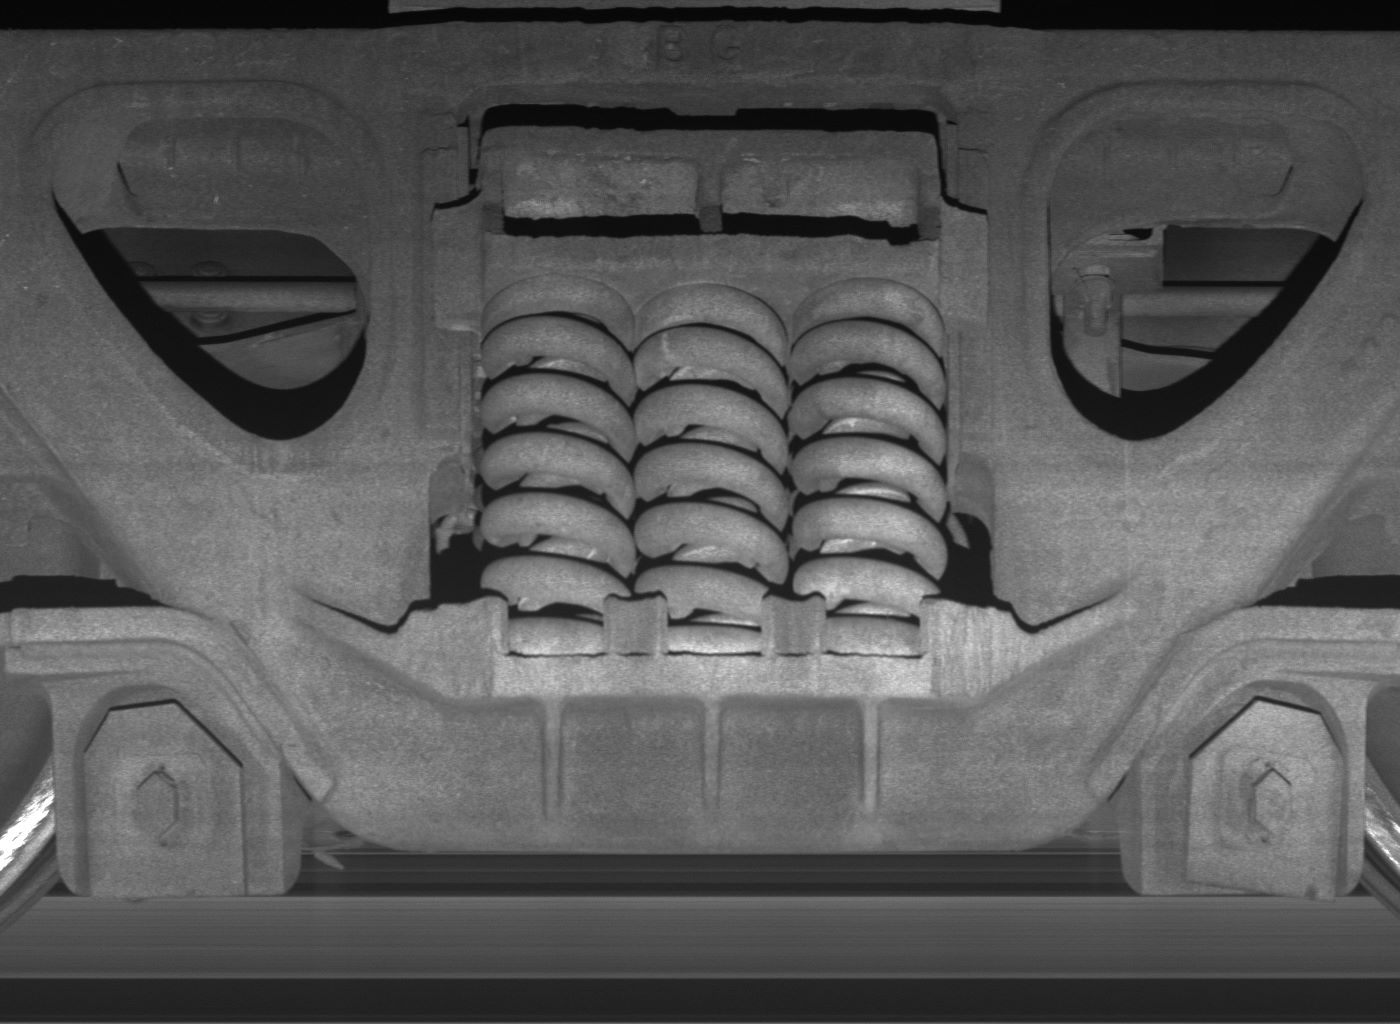locking plate: (1140, 678, 1367, 902)
normal: (55, 686, 280, 895)
